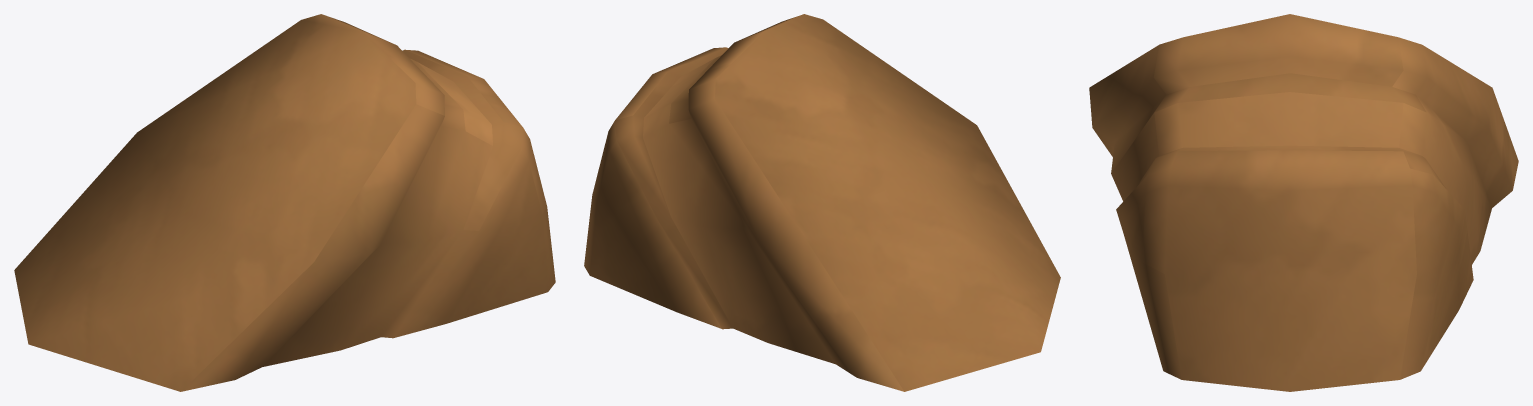
Rendered from Rock_02.glb.
3 views of the same model, side by side, from view 1: azimuth 30°, elevation 25°; view 2: azimuth 150°, elevation 25°; view 3: azimuth 270°, elevation 25° (orthographic). The views are drawn at different scales.
Visible parts, largest first — view 1: Rock_02; view 2: Rock_02; view 3: Rock_02.
Part boxes in pixels (bbox=[...]): Rock_02: bbox=[14, 14, 555, 391]; Rock_02: bbox=[584, 14, 1060, 391]; Rock_02: bbox=[1089, 14, 1518, 391].
Size of the model in its own units: 277 by 138 by 188.
Materials: 1 (1 with a texture image).
